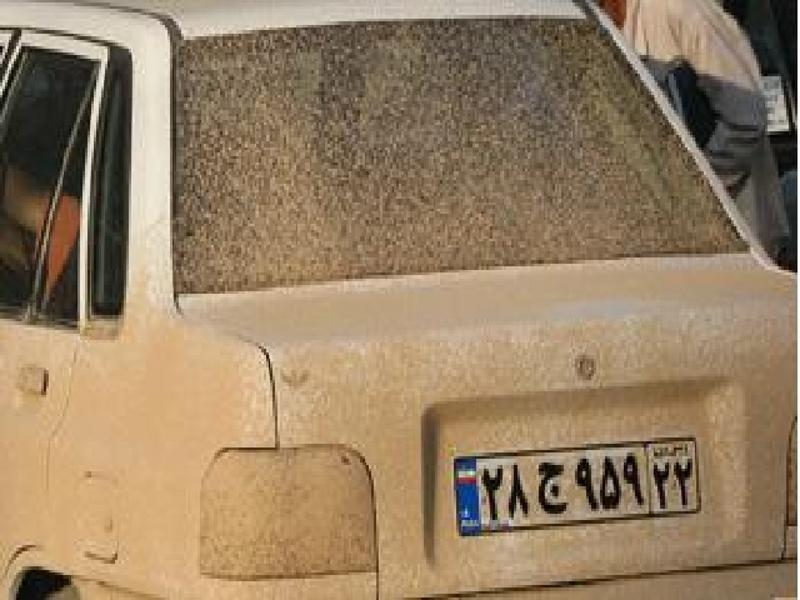Plate: (455, 439, 705, 532)
